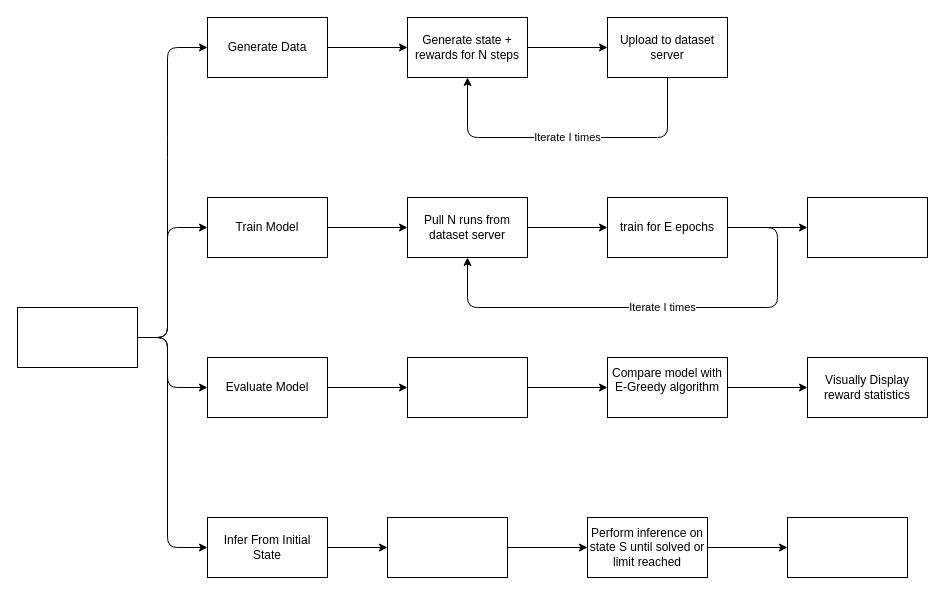
The diagram is 945 pixels wide and 595 high, and some of its shapes have lost their labels. Each missing label, with the box of its shape:
Display steps to get to solved state: (786, 516, 908, 578)
load state S: (386, 516, 508, 578)
main: (16, 306, 138, 368)
Save model to model registry: (806, 196, 928, 258)
Select model by name: (406, 356, 528, 418)
